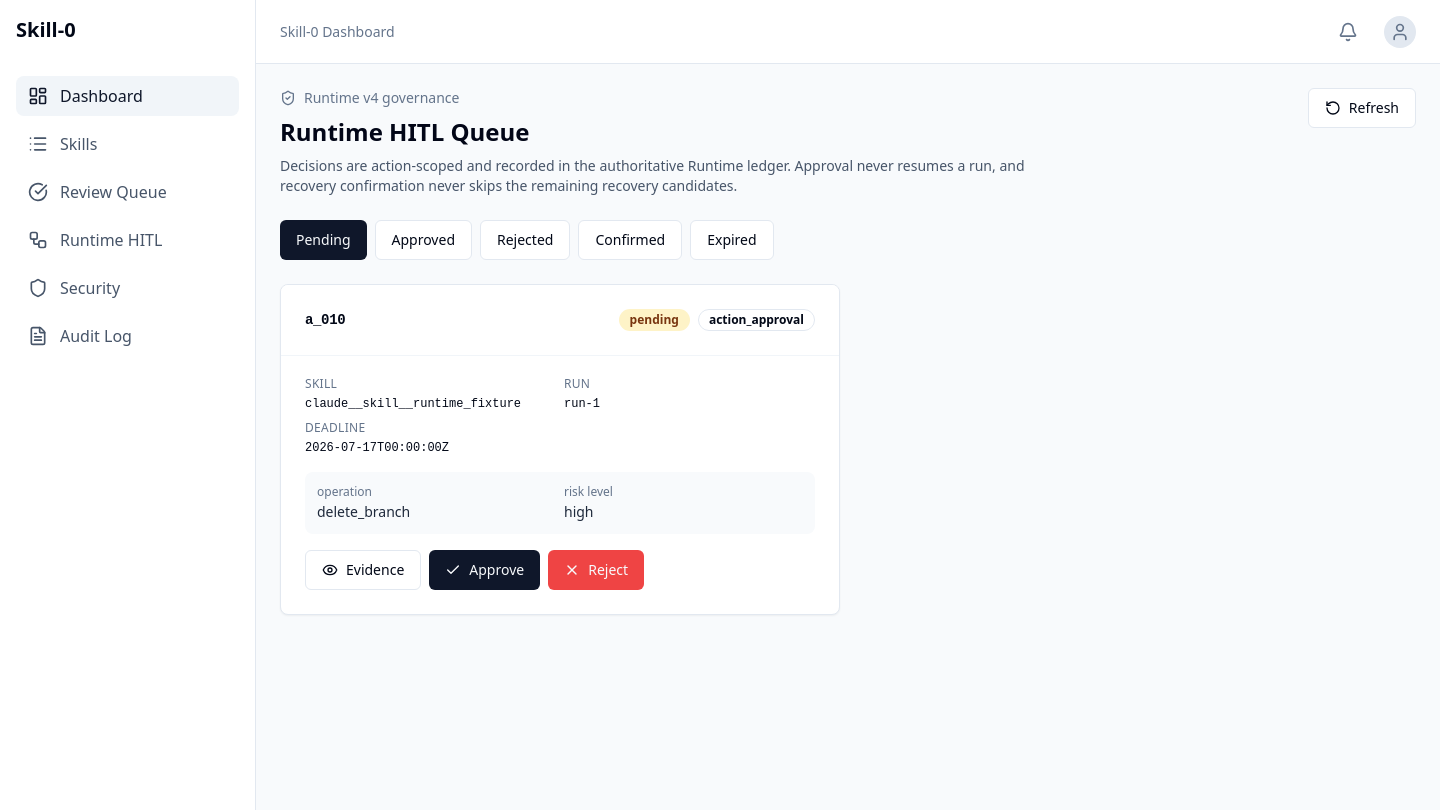
Test: RuntimeGovernance › shows governance evidence on demand
The width and height of the screenshot is (1440, 810).
Click the button "Evidence": (363, 570) [305,550,421,590]
(page scrolled)
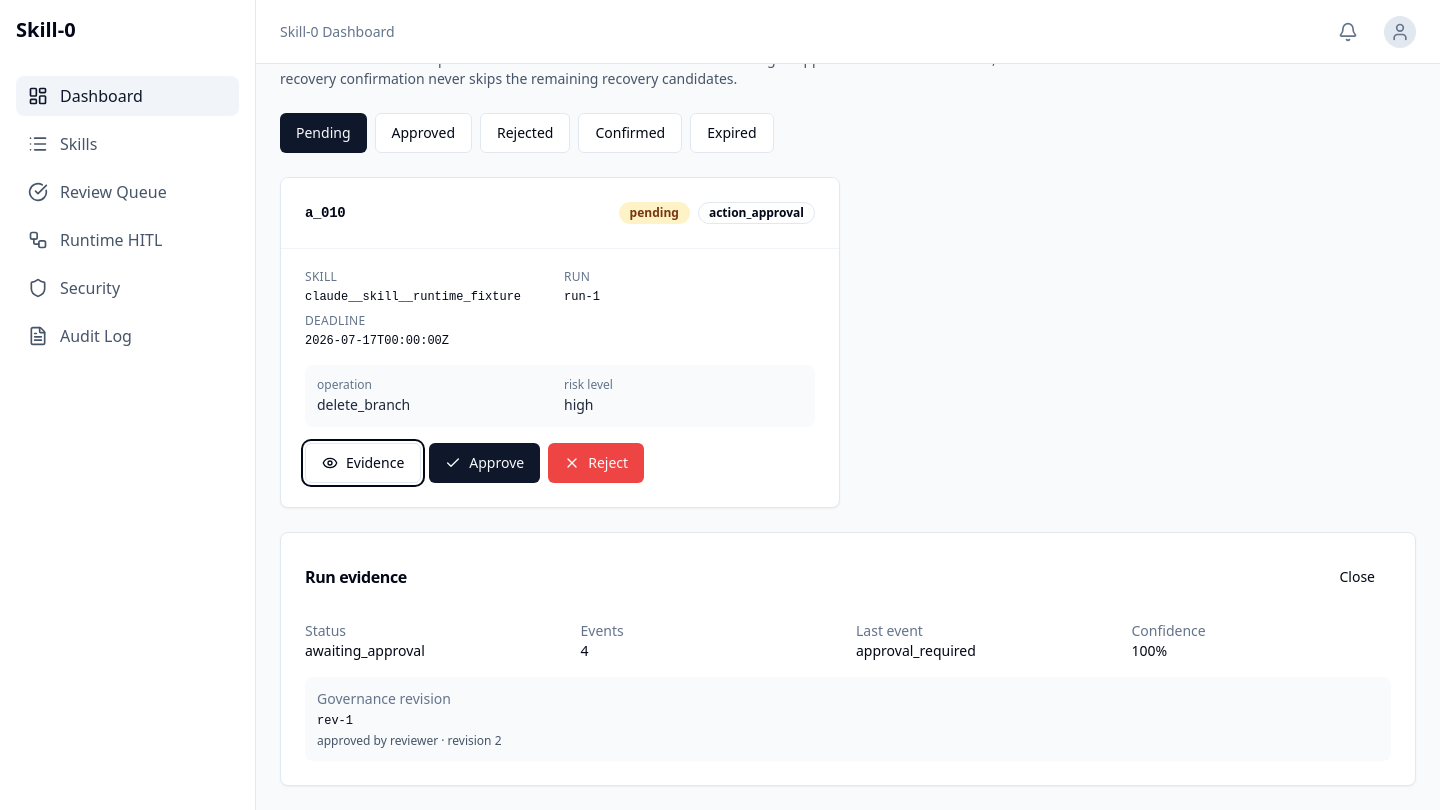
Now the heading "Run evidence" is shown, box [305,565,407,589]
Now the text "rev-1" is shown, box [317,714,353,728]
Now the text "approved by reviewer · revision 2" is shown, box [317,732,502,749]
